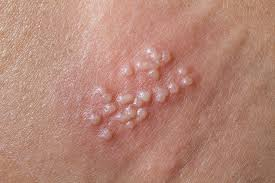herpes: (41, 29, 265, 171)
